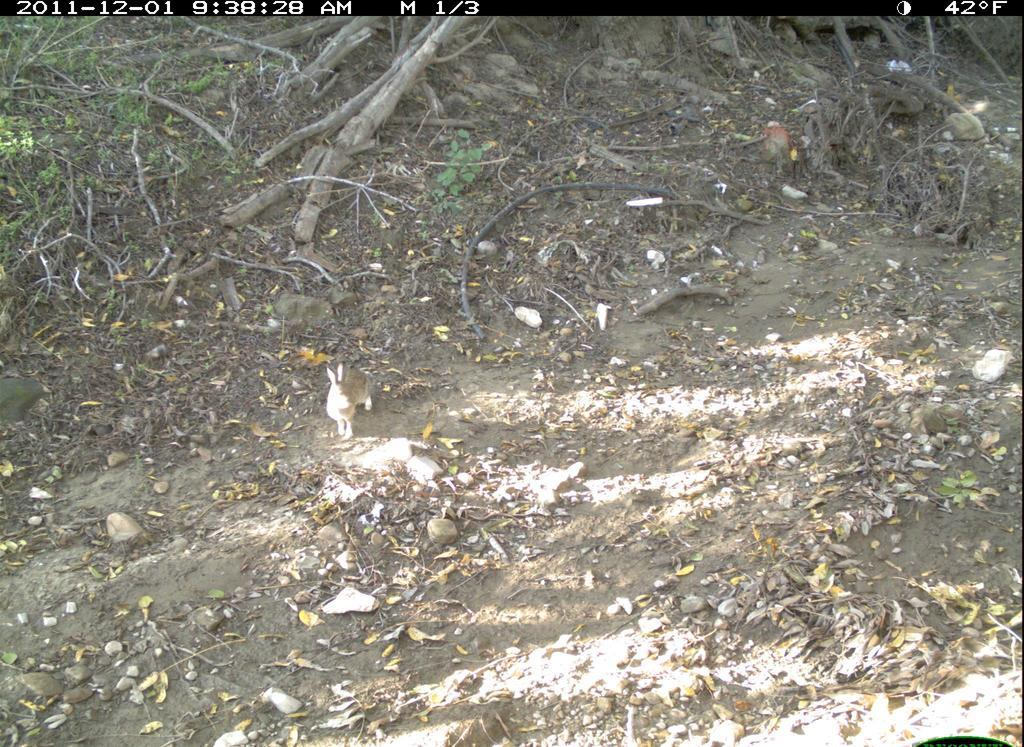rabbit: (318, 359, 377, 446)
